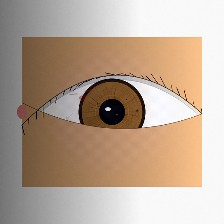hemorrhage_spot: (73, 69, 149, 130)
